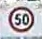limite 50: (7, 5, 35, 32)
